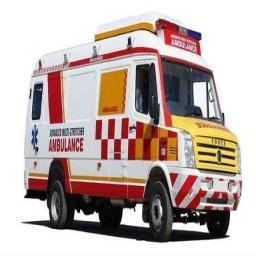ambulance: (25, 13, 241, 240)
